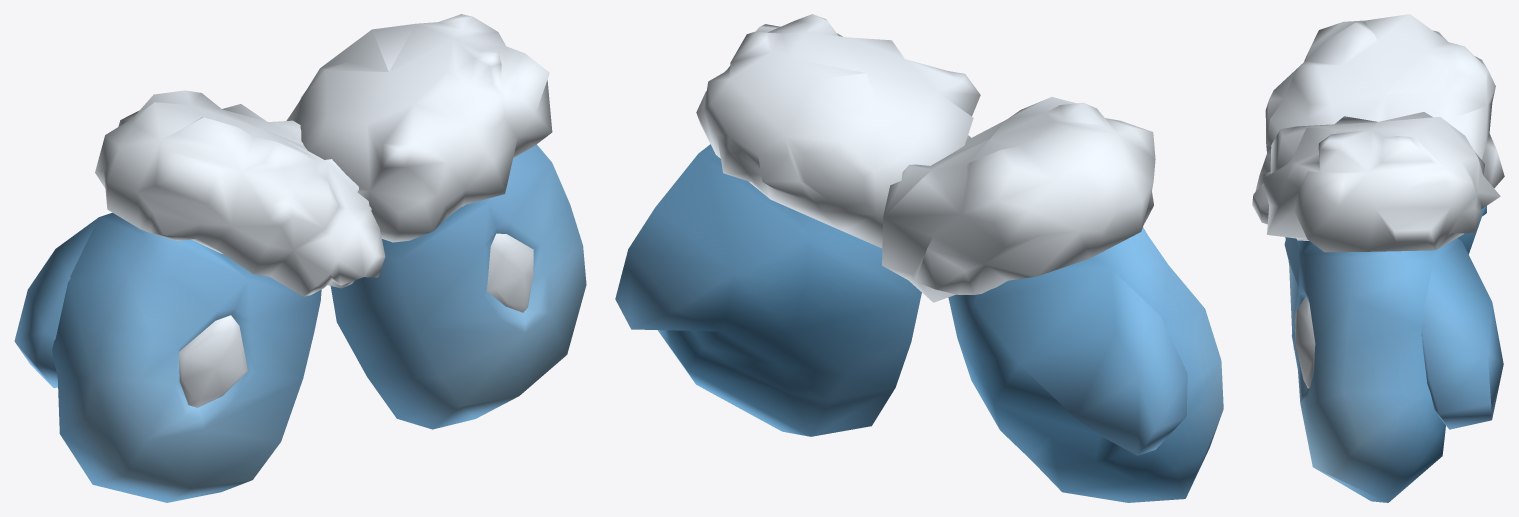
File: CharSkyKid_Prop_SnowBallMittens.glb
3 renders of one model, left to right at view 1: azimuth 30°, elevation 25°; view 2: azimuth 150°, elevation 25°; view 3: azimuth 270°, elevation 25°, orthographic. The views are drawn at different scales.
Parts seen in each view (by area): view 1: CharSkyKid_Prop_SnowBallMittens; view 2: CharSkyKid_Prop_SnowBallMittens; view 3: CharSkyKid_Prop_SnowBallMittens.
Part boxes in pixels (box(x1,y1,x2,y2)): CharSkyKid_Prop_SnowBallMittens: box(14, 14, 586, 502); CharSkyKid_Prop_SnowBallMittens: box(615, 14, 1223, 502); CharSkyKid_Prop_SnowBallMittens: box(1252, 14, 1504, 502).
Size of the model in its own units: 4.7 by 3.39 by 2.12.
Materials: 1 (1 with a texture image).
